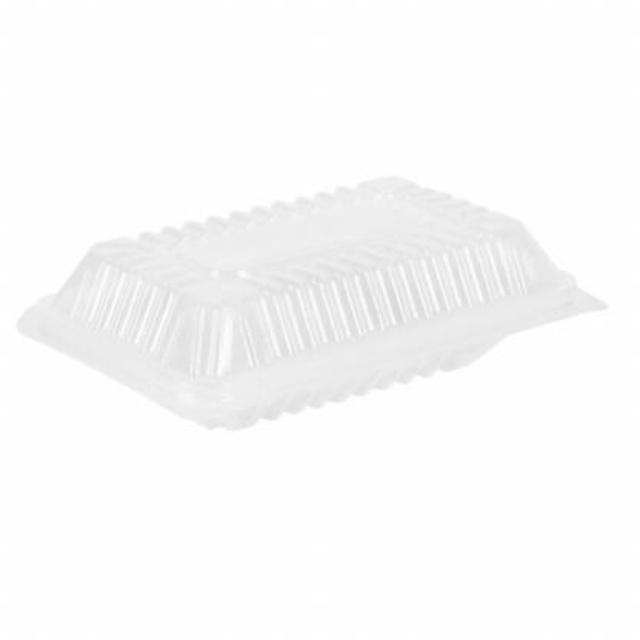plastic_box: (15, 166, 608, 430)
